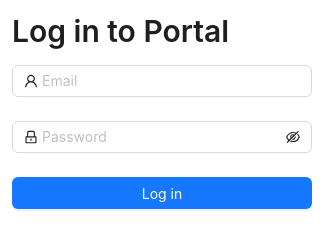
Test: features/LoginForm › shows validation messages if submitted empty
Click the button "Log in" at [162, 193], box [12,177,312,209]
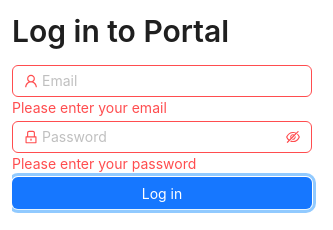
Expected: the text "Please enter your email" is shown, [12,99,167,116]
Expected: the text "Please enter your password" is shown, [12,155,196,172]
